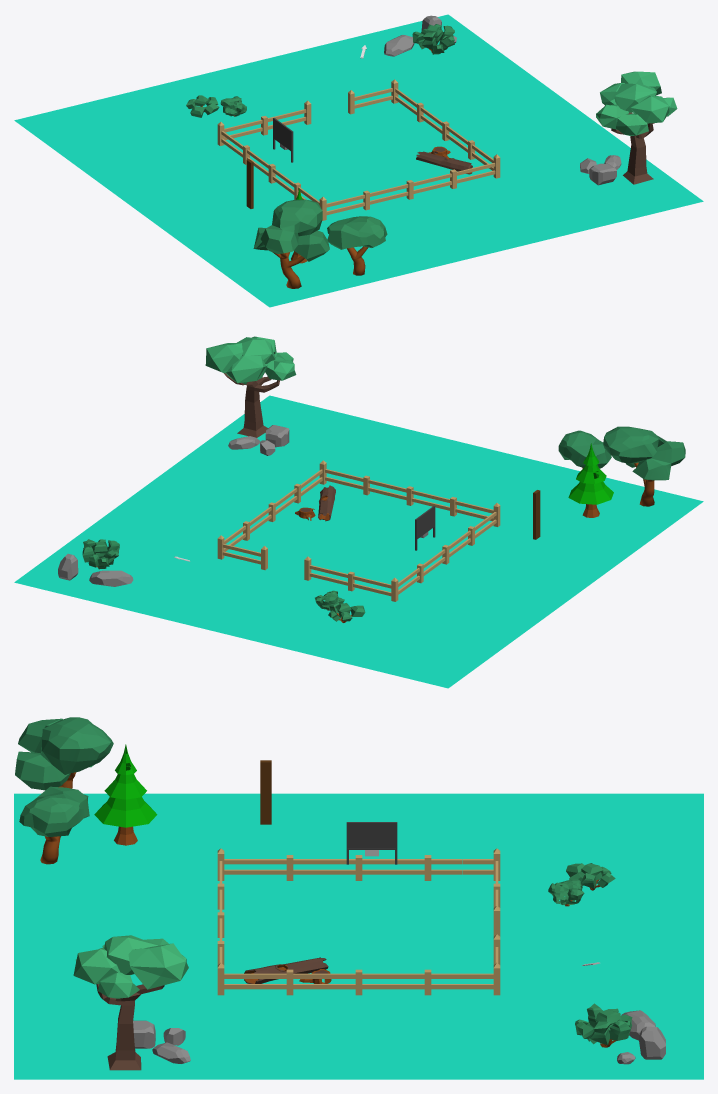
The model's file is region-0.glb.
3 renders of one model, top to bottom at view 1: azimuth 30°, elevation 25°; view 2: azimuth 150°, elevation 25°; view 3: azimuth 270°, elevation 25°, orthographic. The views are drawn at different scales.
Parts seen in each view (by area): view 1: rock-6.2237, info-board-assembly-large; view 2: rock-6.2237, info-board-assembly-large; view 3: rock-6.2237, info-board-assembly-large, fence.
Part boxes in pixels (box(x1,y1,x2,y2)): rock-6.2237: box(14, 14, 703, 307); info-board-assembly-large: box(273, 118, 293, 162); rock-6.2237: box(14, 336, 703, 688); info-board-assembly-large: box(415, 506, 435, 550); rock-6.2237: box(14, 717, 703, 1079); info-board-assembly-large: box(346, 822, 397, 864); fence: box(260, 760, 271, 824).
Size of the model in its own units: 30 by 6.13 by 30.
